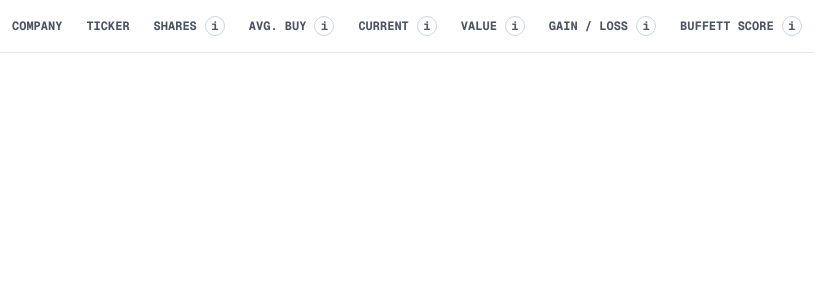
PortfolioHoldingsTableHeader › explains non-company headers in hover popovers
Hover over the button with test id "header-popover-trigger-gain-loss" at (602, 26), box [549,16,656,36]
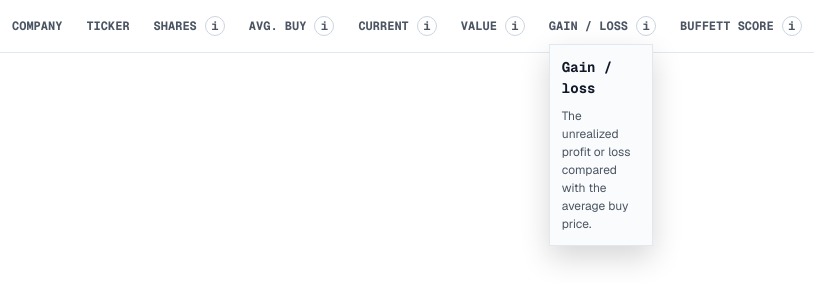
expect the text "The unrealized profit or loss compared with the average buy price." is shown: met, box [562,107,640,233]
